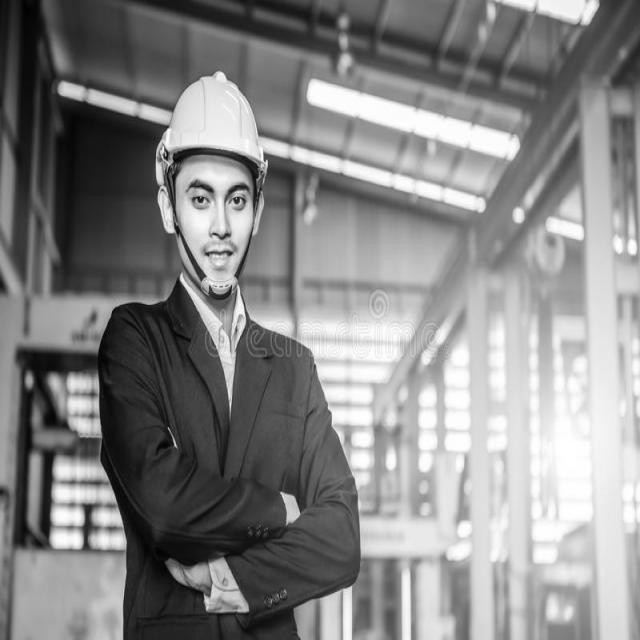safety_helmet: (154, 72, 268, 189)
